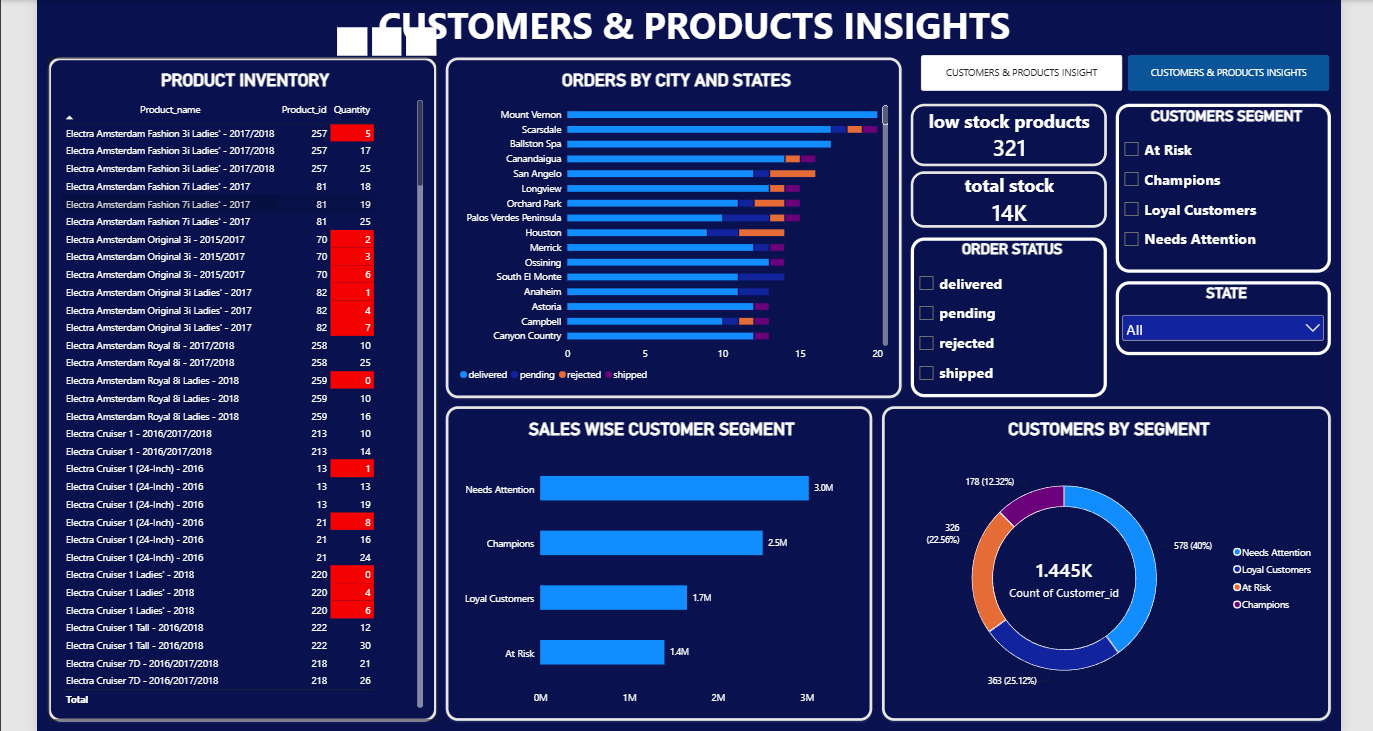

Layout of this report page (visuals, bound fields, positions):
{"tool":"powerbi","page":{"name":"CUSTOMERS & PRODUCTS INSIGHTS ","canvas":[1920,1080],"ordinal":1},"visuals":[{"type":"barChart","title":"ORDERS BY  CITY  AND STATES","fields":{"Category":["capstone customers.City"],"Series":["capstone orders.Order_status"],"Y":["CountNonNull(capstone orders.Order_id)"]},"box":[602.6,85.1,671.4,501.3],"z":0},{"type":"cardVisual","fields":{"Data":["capstone stocks.low stock products"]},"box":[1286.5,152.8,289,92],"z":1000},{"type":"cardVisual","fields":{"Data":["capstone stocks.total stock"]},"box":[1286.5,252.1,289,82.8],"z":2000},{"type":"donutChart","title":"CUSTOMERS  BY SEGMENT","fields":{"Category":["capstone customer_segments.Customer_Segment"],"Y":["CountNonNull(capstone customers.Customer_id)"]},"box":[1245,599,660.5,463.3],"z":3000},{"type":"tableEx","title":"PRODUCT INVENTORY","fields":{"Values":["capstone products.Product_name","capstone products.Product_id","capstone stocks.Quantity"]},"box":[16.3,85.1,571.9,977.2],"z":4000},{"type":"barChart","title":"SALES WISE CUSTOMER SEGMENT","fields":{"Category":["capstone customer_segments.Customer_Segment"],"Y":["Sum(capstone order_items.Total_Price)"]},"box":[602.6,599,628,463.3],"z":5000},{"type":"textbox","box":[468.7,0,982.6,85.1],"z":6000},{"type":"pageNavigator","box":[1301.2,81,603.7,53.4],"z":7000},{"type":"slicer","title":"CUSTOMERS SEGMENT","fields":{"Values":["capstone customer_segments.Customer_Segment"]},"box":[1588.4,152.8,316.6,219],"z":8000},{"type":"slicer","title":"ORDER STATUS","fields":{"Values":["capstone orders.Order_status"]},"box":[1286.5,349.7,289,235.6],"z":9000},{"type":"slicer","title":"STATE","fields":{"Values":["capstone customers.State"]},"box":[1588.4,393.9,316.6,108.6],"z":10000}]}

Visuals, with their boxes in screenshot pixels (x1, y1, x2, y2):
"ORDERS BY  CITY  AND STATES" barChart: box(438, 55, 901, 401)
cardVisual - capstone stocks.low stock products: box(910, 102, 1109, 165)
cardVisual - capstone stocks.total stock: box(910, 171, 1109, 228)
"CUSTOMERS  BY SEGMENT" donutChart: box(881, 410, 1337, 730)
"PRODUCT INVENTORY" tableEx: box(33, 55, 428, 730)
"SALES WISE CUSTOMER SEGMENT" barChart: box(438, 410, 871, 730)
textbox: box(345, 0, 1024, 55)
pageNavigator: box(920, 52, 1337, 89)
"CUSTOMERS SEGMENT" slicer: box(1118, 102, 1337, 253)
"ORDER STATUS" slicer: box(910, 238, 1109, 401)
"STATE" slicer: box(1118, 268, 1337, 343)
